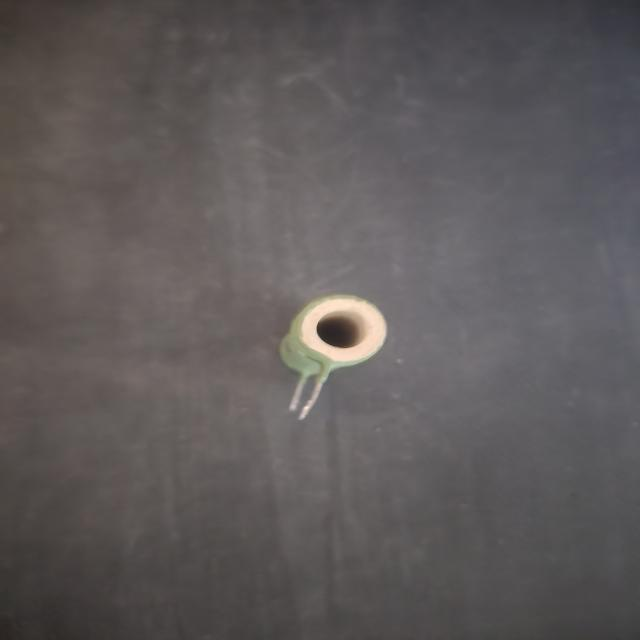resistor: (263, 290, 399, 428)
